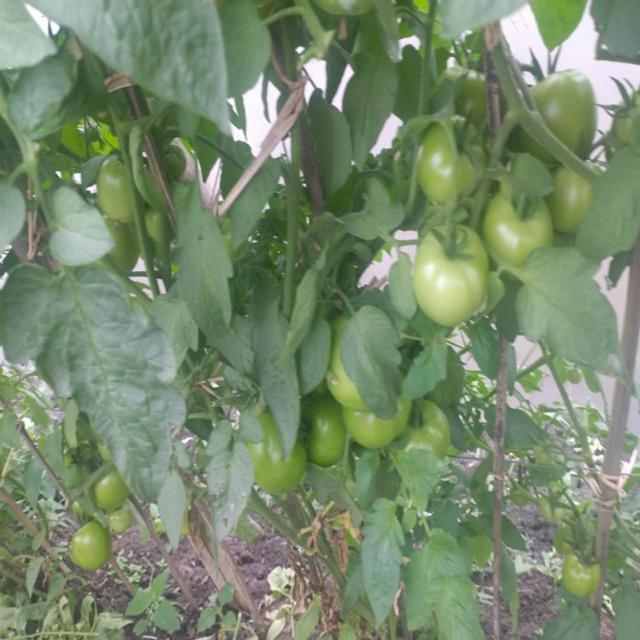tomato: (417, 229, 493, 331), (483, 199, 560, 259), (425, 121, 486, 196), (539, 67, 596, 144), (91, 160, 136, 231), (304, 404, 346, 469), (552, 167, 593, 231), (347, 397, 391, 452), (264, 450, 315, 496), (412, 400, 451, 453), (72, 522, 116, 567), (564, 558, 603, 599), (462, 71, 489, 122), (557, 525, 595, 561), (93, 471, 125, 513), (329, 366, 362, 406), (617, 89, 640, 141), (139, 205, 164, 247), (543, 489, 577, 519)
